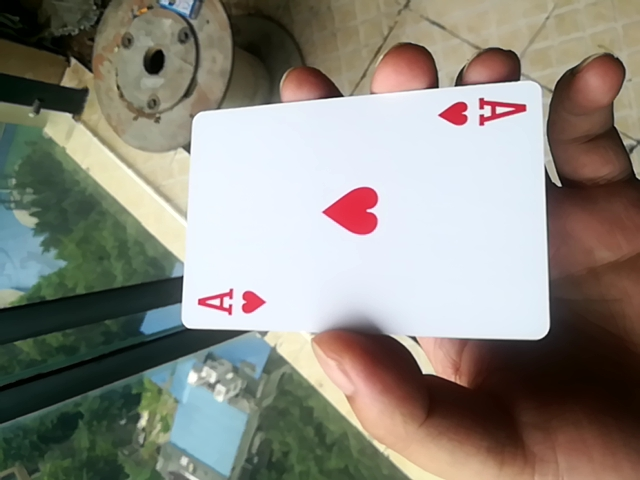hx a: (175, 81, 551, 350)
